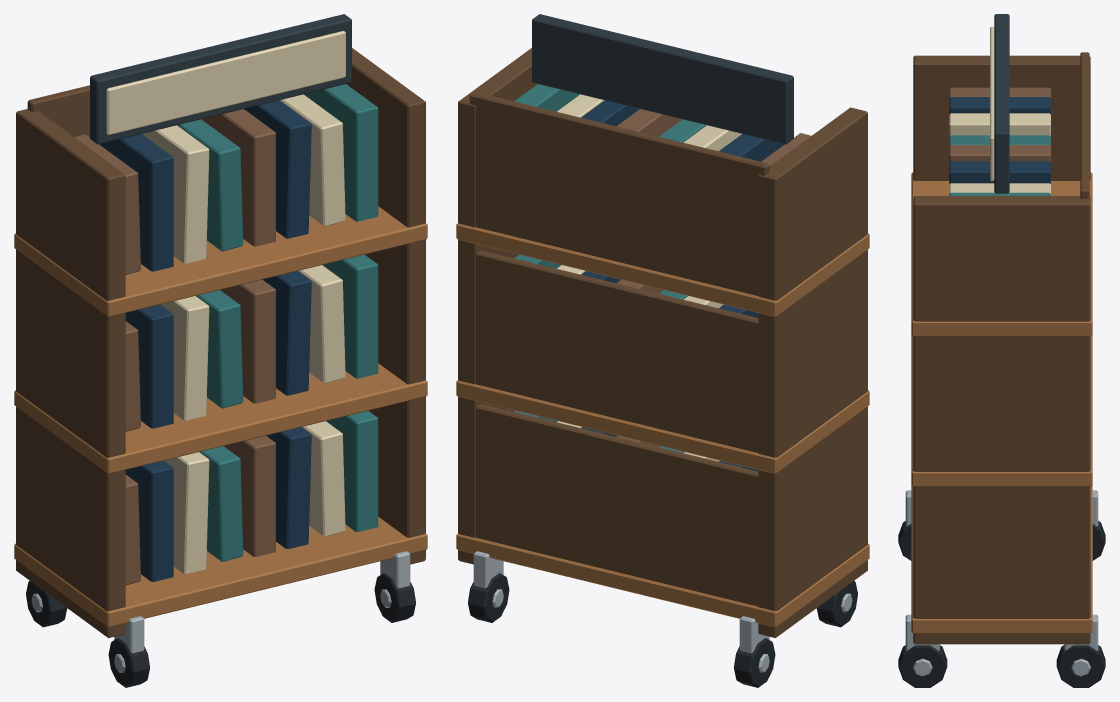
Rendered from b10_outdoor_bookshop_cart.glb.
The picture shows the model from 3 angles, left to right: view 1: azimuth 30°, elevation 25°; view 2: azimuth 150°, elevation 25°; view 3: azimuth 270°, elevation 25°; orthographic projection. The views are drawn at different scales.
Parts seen in each view (by area): view 1: b10_outdoor_bookshop_cart; view 2: b10_outdoor_bookshop_cart; view 3: b10_outdoor_bookshop_cart.
Part boxes in pixels (x1=…): b10_outdoor_bookshop_cart: x1=14, y1=14, x2=427, y2=687; b10_outdoor_bookshop_cart: x1=456, y1=14, x2=869, y2=687; b10_outdoor_bookshop_cart: x1=898, y1=14, x2=1105, y2=687.
Size of the model in its own units: 0.94 by 1.61 by 0.55.
